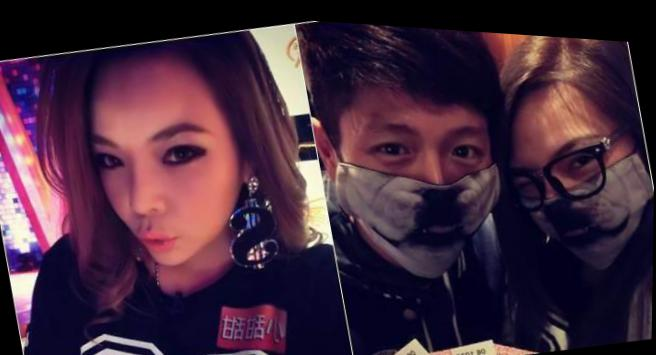NONE: (85, 100, 253, 274)
OK: (504, 106, 655, 280)
WRONG: (325, 78, 519, 280)
